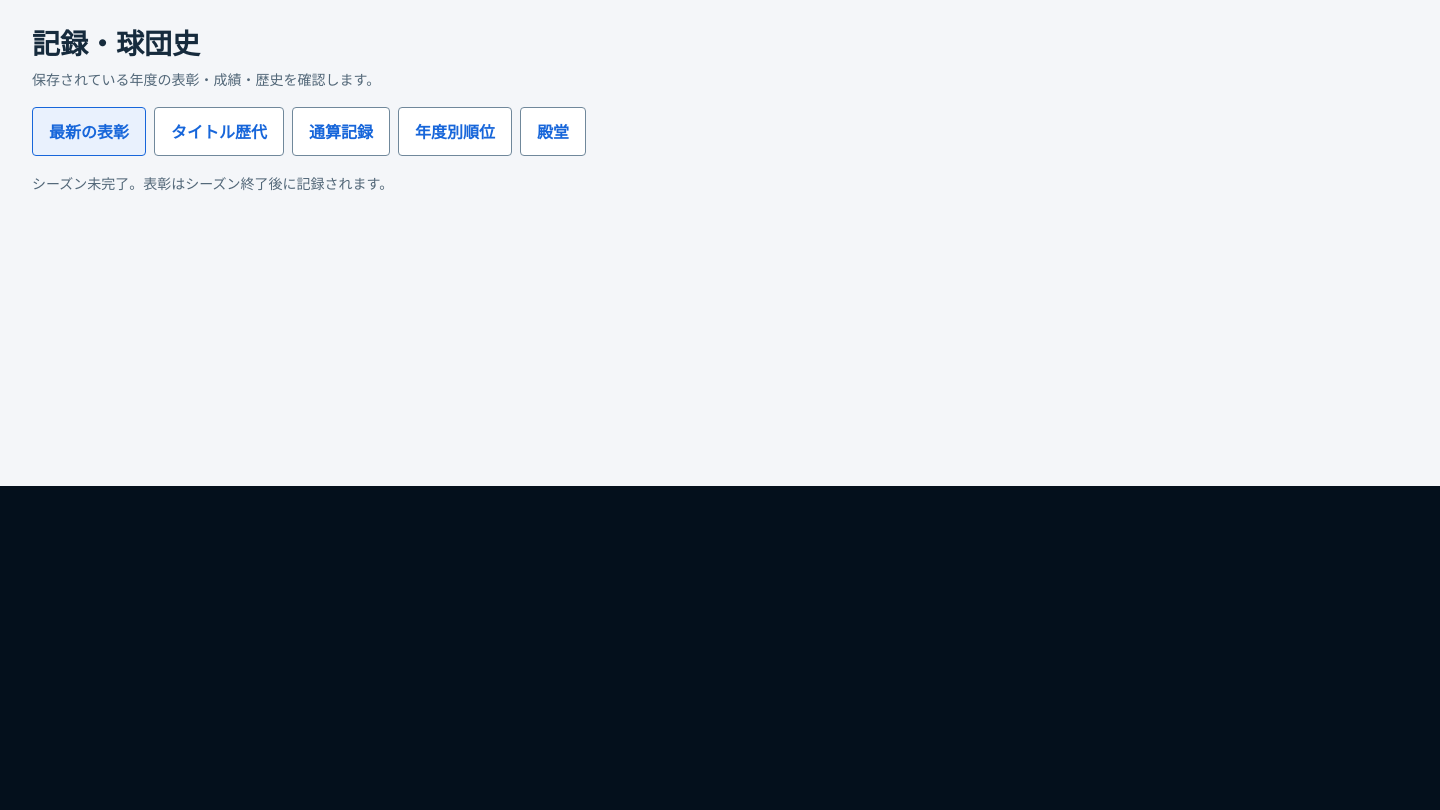
Test: award records compatibility › renders all tied winners, the new titles and winning percentage 1.000
This screenshot has width=1440, height=810.
Step 1. Click the button "タイトル歴代" → (219, 132), box [154,108,284,156]
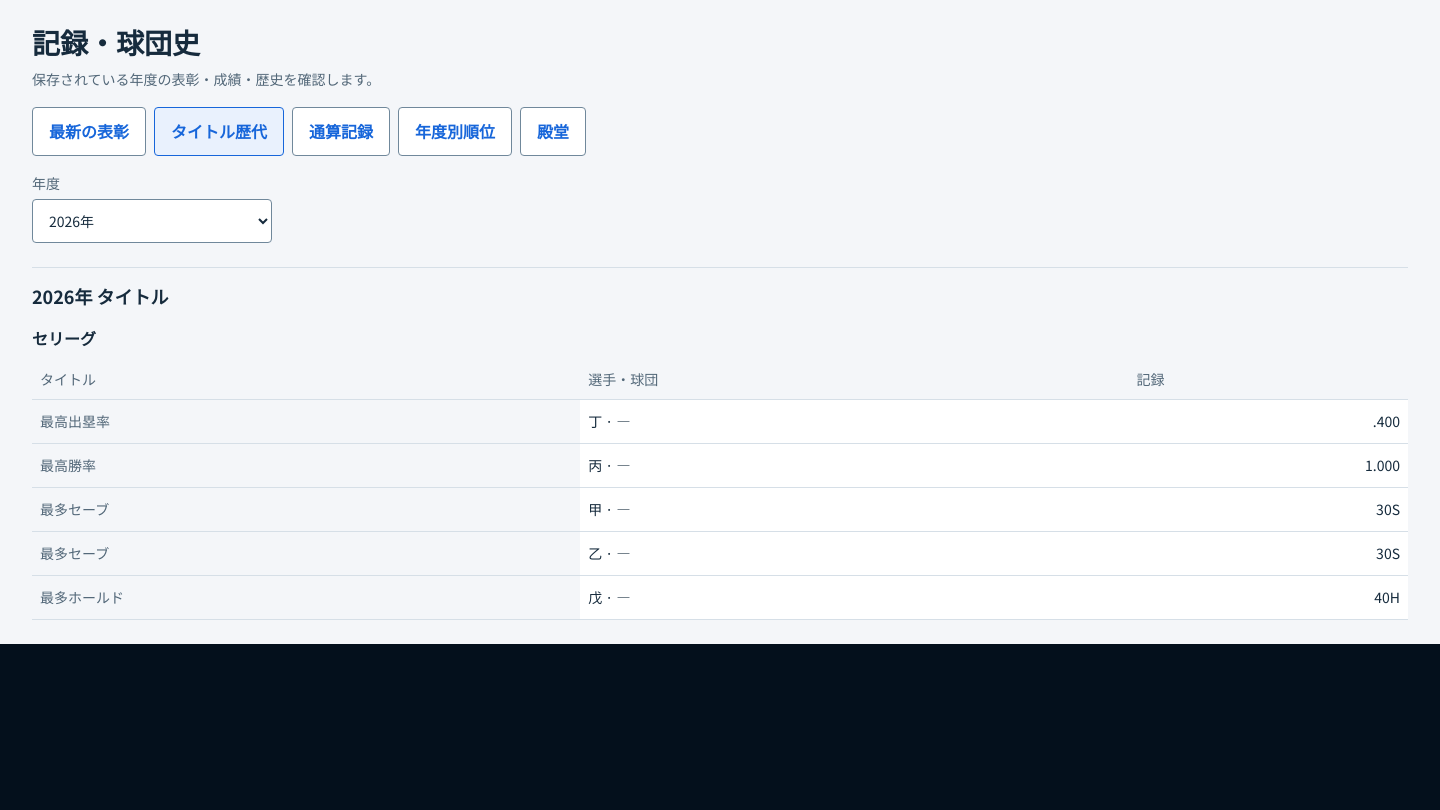
Result: the text "甲" is shown at [588,499,602,519]
Result: the text "乙" is shown at [588,543,602,563]
Result: the text "最高出塁率" is shown at [32,400,580,444]
